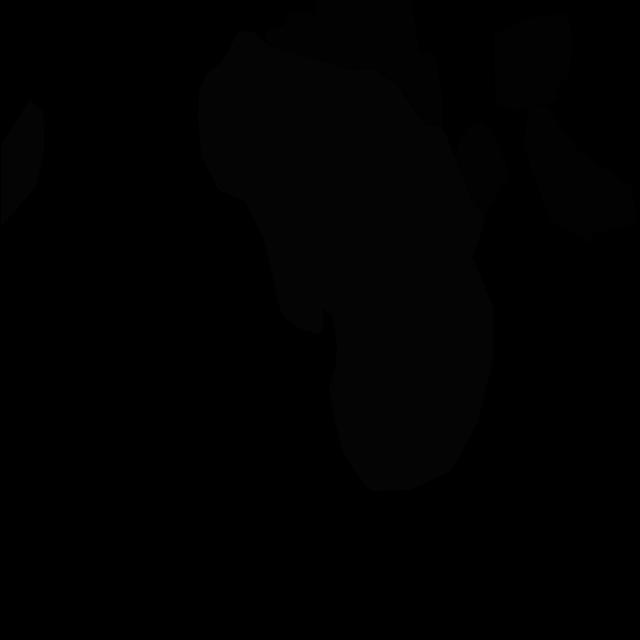cardboard: (264, 0, 443, 127), (524, 105, 638, 244), (494, 13, 573, 112), (455, 120, 510, 215)
soft_plastic: (198, 31, 494, 492), (1, 100, 44, 226)
